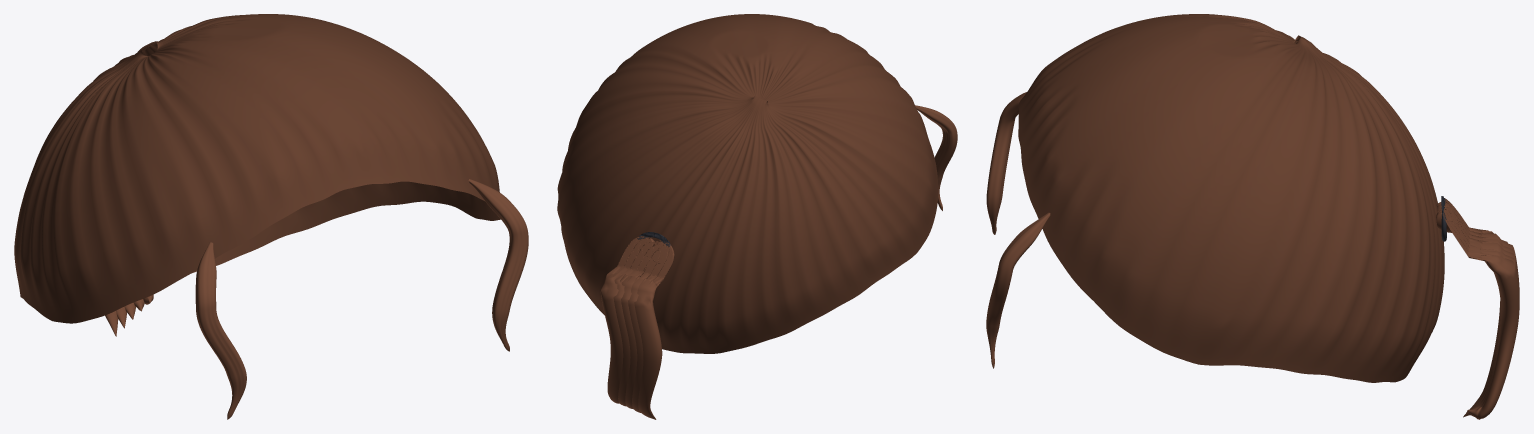
File: ponytail-bucket-default.glb
3 renders of one model, left to right at view 1: azimuth 30°, elevation 25°; view 2: azimuth 150°, elevation 25°; view 3: azimuth 270°, elevation 25°, orthographic. The views are drawn at different scales.
Parts seen in each view (by area): view 1: 226 hair / Hair / crisp pulled roots220.002, 226 hair / Hair / sculpted front locks222.002, 226 hair / Hair / chestnut226.001; view 2: 226 hair / Hair / crisp pulled roots220.002, 226 hair / Hair / chestnut226.001, 226 hair / Hair / sculpted front locks222.002; view 3: 226 hair / Hair / crisp pulled roots220.002, 226 hair / Hair / chestnut226.001, 226 hair / Hair / sculpted front locks222.002.
Part boxes in pixels (x1=…): 226 hair / Hair / crisp pulled roots220.002: x1=14, y1=14, x2=500, y2=323; 226 hair / Hair / sculpted front locks222.002: x1=195, y1=179, x2=528, y2=419; 226 hair / Hair / chestnut226.001: x1=105, y1=294, x2=153, y2=336; 226 hair / Hair / crisp pulled roots220.002: x1=557, y1=14, x2=938, y2=353; 226 hair / Hair / chestnut226.001: x1=600, y1=236, x2=674, y2=419; 226 hair / Hair / sculpted front locks222.002: x1=915, y1=105, x2=957, y2=210; 226 hair / Hair / crisp pulled roots220.002: x1=1018, y1=14, x2=1444, y2=382; 226 hair / Hair / chestnut226.001: x1=1436, y1=198, x2=1519, y2=419; 226 hair / Hair / sculpted front locks222.002: x1=986, y1=92, x2=1050, y2=368.
Bounding box in the file's own units: 0.7726 × 0.6856 × 0.8569.
